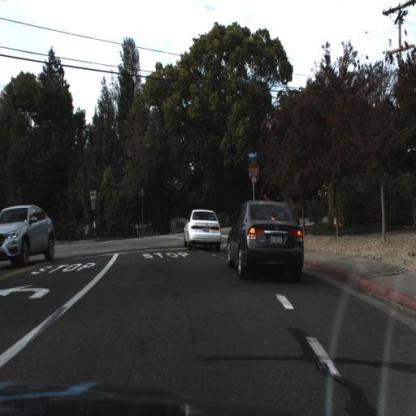car: (222, 195, 314, 283), (2, 204, 57, 272), (183, 204, 225, 253)
